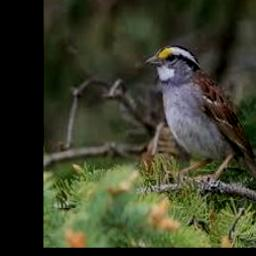Sparrow: (145, 44, 256, 206)
